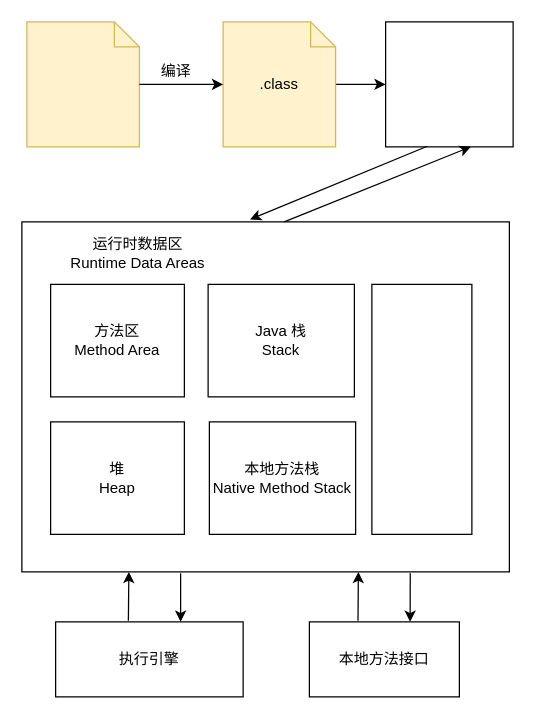
The diagram is 535 pixels wide and 719 high, and some of its shapes have lost their labels. The shapes that lost their labels are listed below. From the top down, each one's box as (x1, y1, x2, y2) in pixels, then its label:
(26, 21, 139, 147): .java
(384, 21, 513, 147): 类装载器 Class Loader SubSystem
(371, 283, 472, 534): 程序计数器 PC
